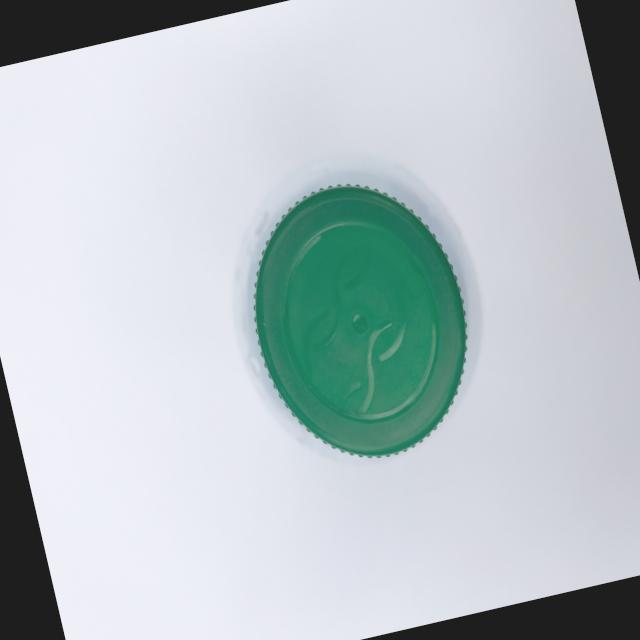Plastic: (195, 120, 511, 546)
